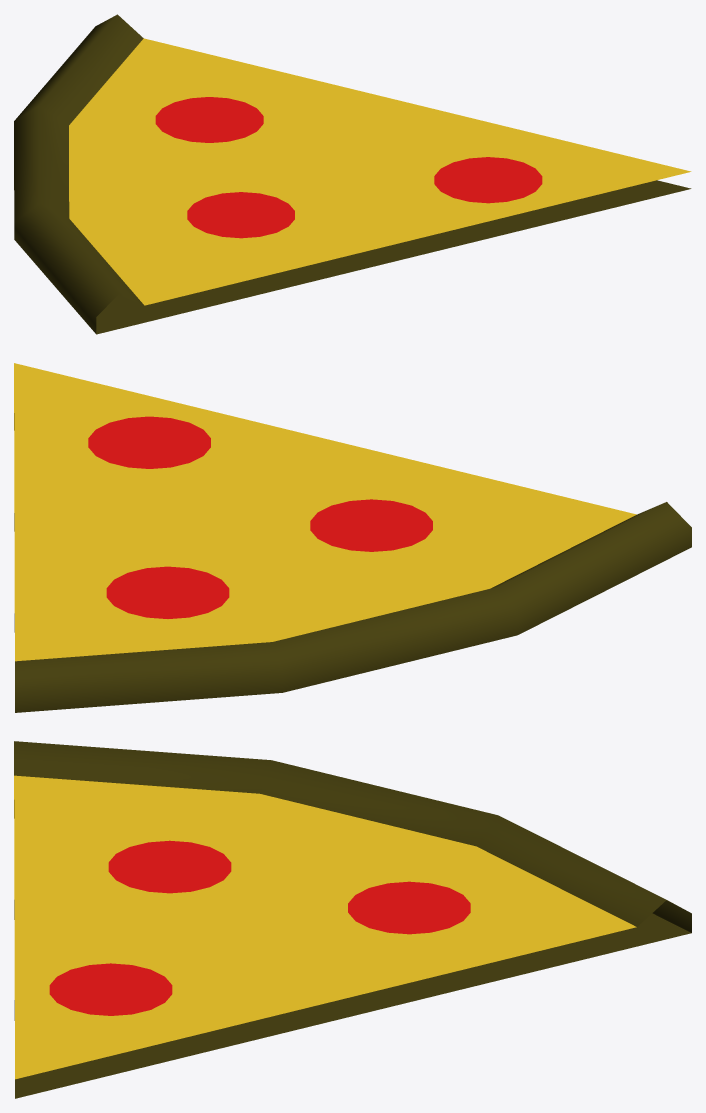
The model's file is Pizza1.FBX.
3 renders of one model, top to bottom at view 1: azimuth 30°, elevation 25°; view 2: azimuth 150°, elevation 25°; view 3: azimuth 270°, elevation 25°, orthographic. The views are drawn at different scales.
Parts seen in each view (by area): view 1: Pizza6; view 2: Pizza6; view 3: Pizza6.
Boxes of the visible parts, bbox=[...] form: Pizza6: bbox=[14, 14, 691, 334]; Pizza6: bbox=[14, 363, 691, 712]; Pizza6: bbox=[14, 741, 691, 1098].
Size of the model in its own units: 0.24 by 0.0133 by 0.208.
